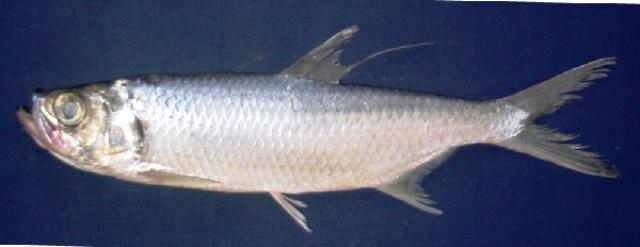Mulut: (9, 83, 51, 131)
Sirip Anal: (378, 138, 458, 219)
Sirip Dada: (140, 162, 220, 194)
Sirip Ekor: (510, 54, 622, 184)
Sirip Perut: (263, 188, 323, 236)
Sirip Punggung: (284, 20, 431, 90)
